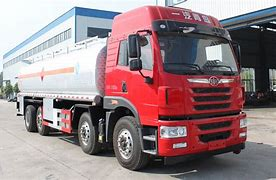oil truck: (12, 14, 251, 165)
